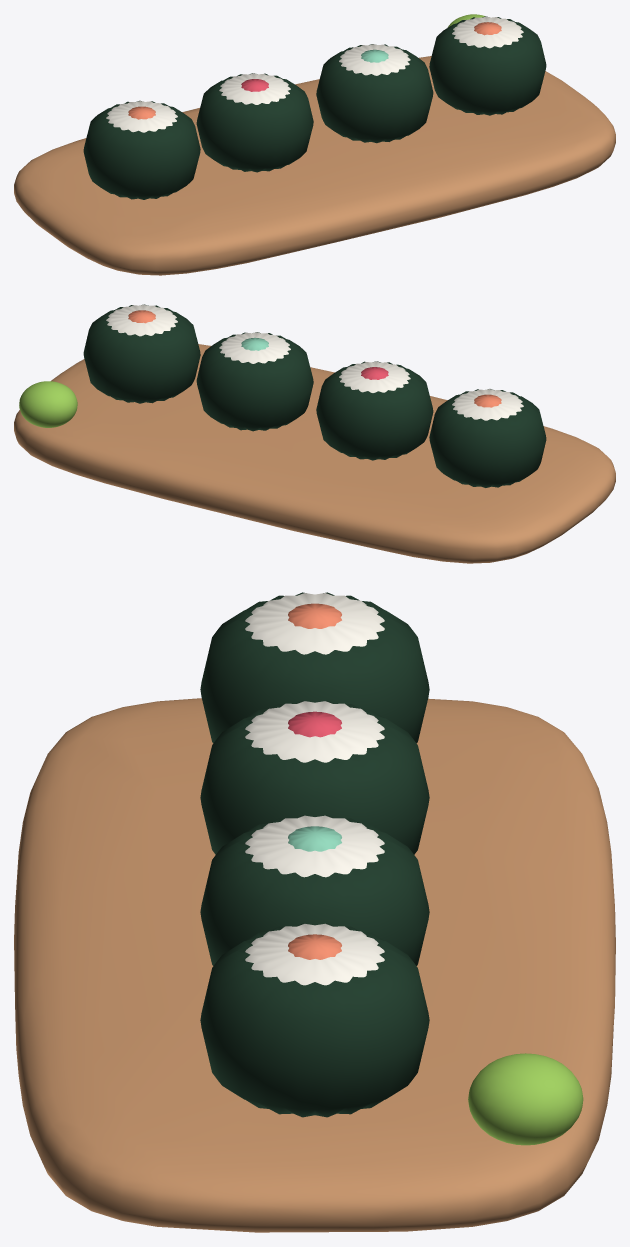
File: comida_sushi.glb
3 views of the same model, one above another, from view 1: azimuth 30°, elevation 25°; view 2: azimuth 150°, elevation 25°; view 3: azimuth 270°, elevation 25° (orthographic). The views are drawn at different scales.
Parts seen in each view (by area): view 1: tabla sushi.001, nori 0.001, nori 1.001, nori 2.001, nori 3.001, arroz sushi 2.001, arroz sushi 1.001, arroz sushi 0.001, arroz sushi 3.001; view 2: tabla sushi.001, nori 1.001, nori 2.001, nori 0.001, nori 3.001, wasabi.001, arroz sushi 1.001, arroz sushi 2.001, arroz sushi 0.001, arroz sushi 3.001; view 3: tabla sushi.001, nori 3.001, nori 1.001, nori 2.001, nori 0.001, wasabi.001, arroz sushi 2.001, arroz sushi 3.001, arroz sushi 0.001, arroz sushi 1.001, centro sushi 0.001, centro sushi 1.001 (+2 smaller).
Part boxes in pixels (left/top/right/bottom): tabla sushi.001: left=14, top=56, right=615, bottom=275; nori 0.001: left=83, top=100, right=200, bottom=199; nori 1.001: left=196, top=73, right=313, bottom=172; nori 2.001: left=316, top=44, right=433, bottom=143; nori 3.001: left=429, top=16, right=546, bottom=115; arroz sushi 2.001: left=339, top=44, right=410, bottom=75; arroz sushi 1.001: left=219, top=73, right=290, bottom=104; arroz sushi 0.001: left=106, top=101, right=177, bottom=132; arroz sushi 3.001: left=452, top=16, right=523, bottom=48; tabla sushi.001: left=14, top=344, right=615, bottom=563; nori 1.001: left=316, top=361, right=433, bottom=460; nori 2.001: left=196, top=332, right=313, bottom=431; nori 0.001: left=429, top=389, right=546, bottom=487; nori 3.001: left=83, top=304, right=200, bottom=403; wasabi.001: left=19, top=381, right=77, bottom=427; arroz sushi 1.001: left=339, top=361, right=410, bottom=392; arroz sushi 2.001: left=219, top=332, right=290, bottom=363; arroz sushi 0.001: left=452, top=389, right=523, bottom=420; arroz sushi 3.001: left=106, top=304, right=177, bottom=336; tabla sushi.001: left=14, top=698, right=615, bottom=1232; nori 3.001: left=200, top=923, right=429, bottom=1117; nori 1.001: left=200, top=700, right=429, bottom=854; nori 2.001: left=200, top=815, right=429, bottom=965; nori 0.001: left=200, top=592, right=429, bottom=743; wasabi.001: left=468, top=1053, right=583, bottom=1145; arroz sushi 2.001: left=245, top=815, right=384, bottom=877; arroz sushi 3.001: left=245, top=923, right=384, bottom=985; arroz sushi 0.001: left=245, top=593, right=384, bottom=654; arroz sushi 1.001: left=245, top=701, right=384, bottom=762; centro sushi 0.001: left=288, top=603, right=341, bottom=628; centro sushi 1.001: left=288, top=711, right=341, bottom=737.
Bounding box in the file's own units: 0.3999 × 0.084 × 0.2.
